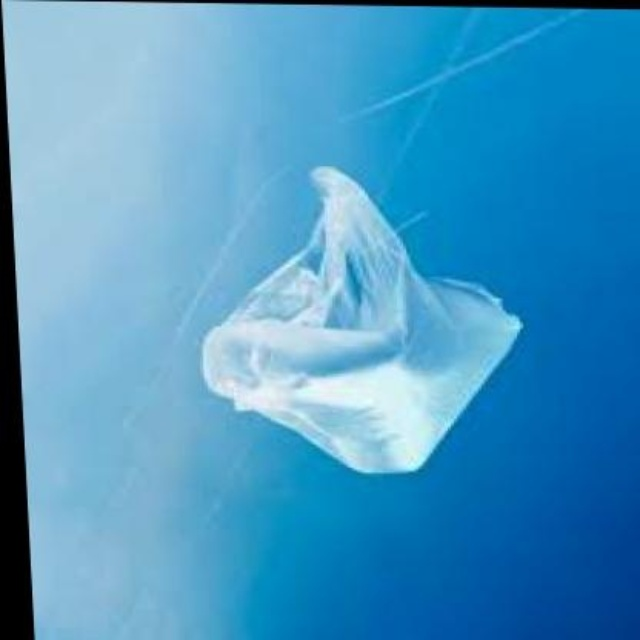trash: (202, 166, 520, 471)
